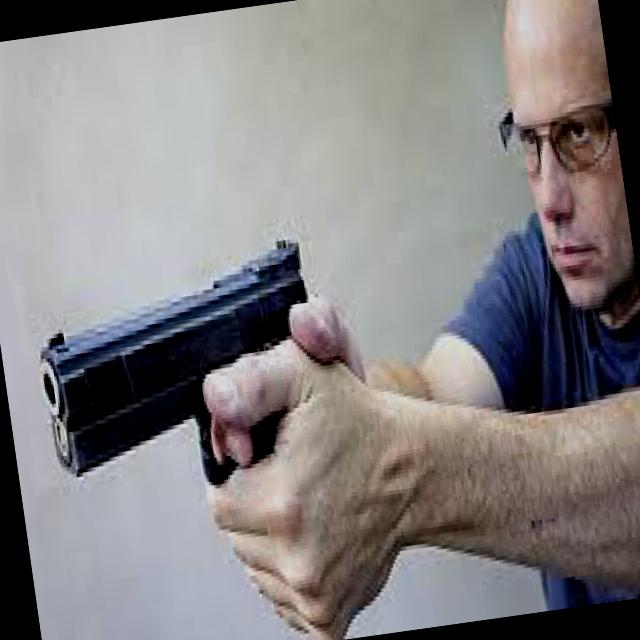handgun: (26, 233, 342, 522)
